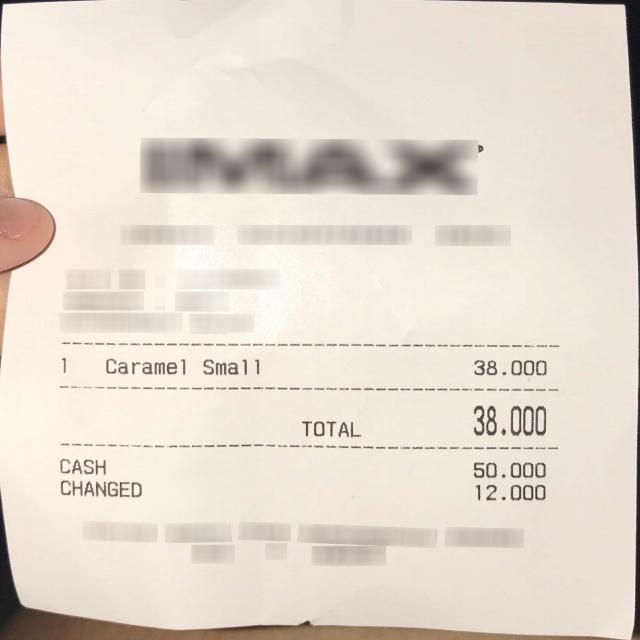text: (473, 405, 546, 436), (59, 480, 142, 497), (105, 358, 183, 374), (473, 359, 546, 376), (473, 462, 544, 478), (474, 484, 544, 500), (300, 420, 361, 437), (202, 359, 258, 374), (59, 459, 105, 474), (59, 355, 68, 374)
